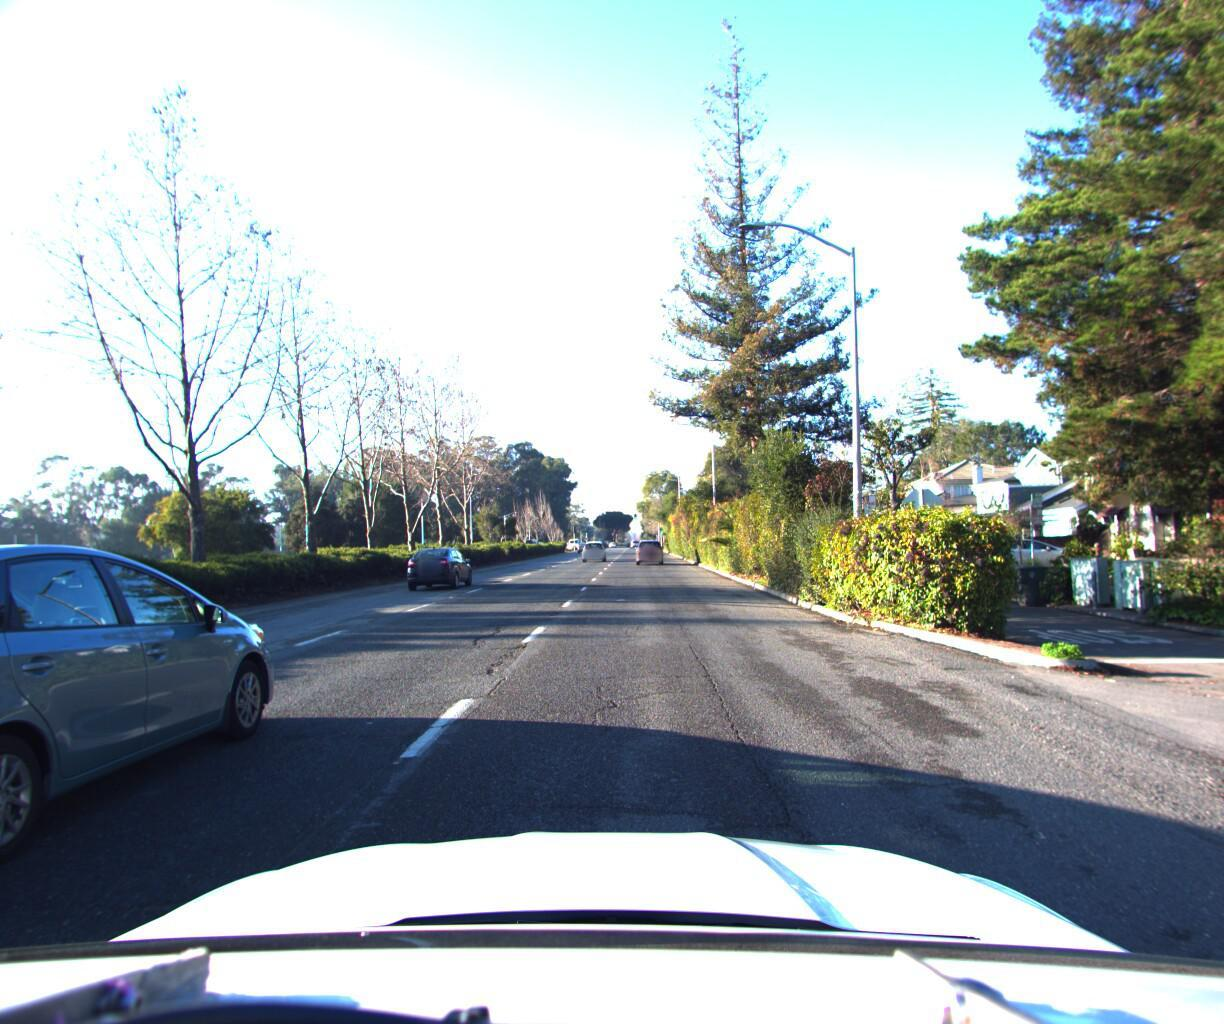car: (0, 535, 300, 962), (958, 533, 1078, 583), (399, 541, 475, 587), (633, 534, 662, 560), (578, 533, 604, 557)
